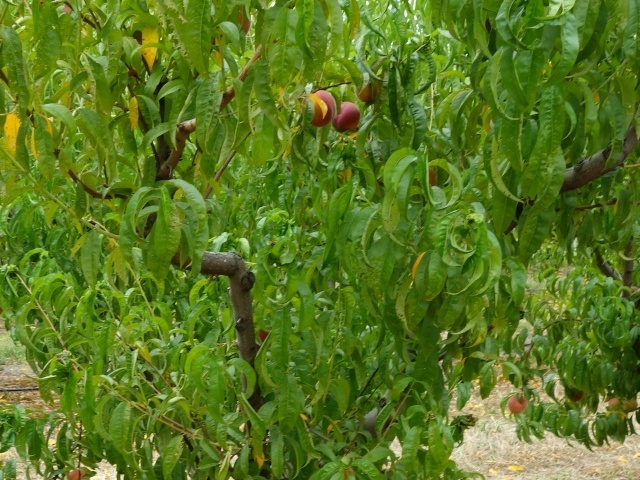peach: (299, 87, 340, 127), (330, 99, 365, 133), (353, 79, 382, 105), (505, 392, 530, 417), (564, 384, 586, 406)
